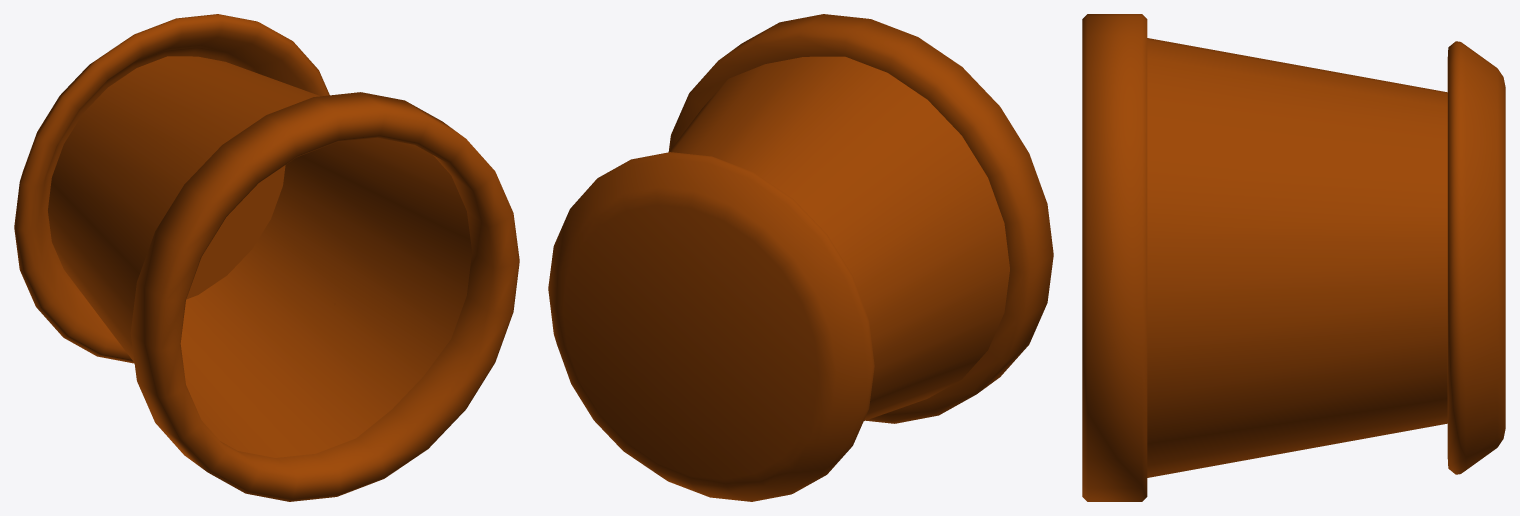
The model's file is MeshHouseplant_25_0_GeomSubset_0.obj.
3 renders of one model, left to right at view 1: azimuth 30°, elevation 25°; view 2: azimuth 150°, elevation 25°; view 3: azimuth 270°, elevation 25°, orthographic. The views are drawn at different scales.
Visible parts, largest first — view 1: MeshHouseplant_25_0_GeomSubset_0; view 2: MeshHouseplant_25_0_GeomSubset_0; view 3: MeshHouseplant_25_0_GeomSubset_0.
Part boxes in pixels (box(x1,y1,x2,y2)): MeshHouseplant_25_0_GeomSubset_0: box(14, 14, 519, 501); MeshHouseplant_25_0_GeomSubset_0: box(548, 14, 1053, 501); MeshHouseplant_25_0_GeomSubset_0: box(1082, 14, 1505, 501).
Bounding box in the file's own units: 0.1857 × 0.1857 × 0.1605.
